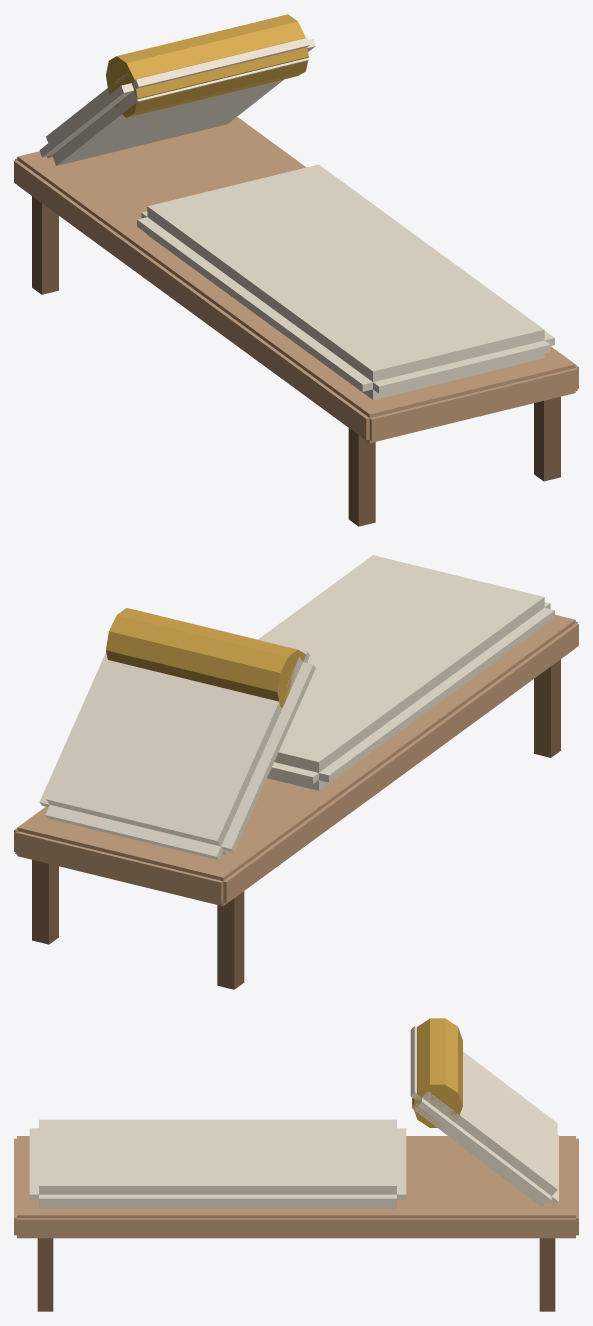
The model's file is lounger.glb.
3 renders of one model, top to bottom at view 1: azimuth 30°, elevation 25°; view 2: azimuth 150°, elevation 25°; view 3: azimuth 270°, elevation 25°, orthographic. The views are drawn at different scales.
Parts seen in each view (by area): view 1: Cushion, Frame, Backrest, Pillow, Leg.004, Leg.005, Leg.006; view 2: Cushion, Backrest, Frame, Pillow, Leg.005, Leg.004, Leg.007; view 3: Cushion, Frame, Backrest, Pillow, Leg.006, Leg.007.
Part boxes in pixels (bbox=[...]): Cushion: bbox=[137, 164, 554, 399]; Frame: bbox=[14, 117, 578, 442]; Backrest: bbox=[39, 37, 315, 165]; Pillow: bbox=[106, 14, 308, 117]; Leg.004: bbox=[348, 428, 375, 526]; Leg.005: bbox=[32, 196, 58, 294]; Leg.006: bbox=[534, 396, 560, 481]; Cushion: bbox=[258, 555, 554, 790]; Backrest: bbox=[39, 610, 315, 860]; Frame: bbox=[14, 614, 578, 906]; Pillow: bbox=[106, 608, 307, 707]; Leg.005: bbox=[217, 891, 244, 989]; Leg.004: bbox=[534, 659, 560, 757]; Leg.007: bbox=[32, 860, 58, 944]; Cushion: bbox=[29, 1119, 406, 1208]; Frame: bbox=[14, 1136, 578, 1238]; Backrest: bbox=[410, 1026, 558, 1206]; Pillow: bbox=[412, 1018, 462, 1127]; Leg.006: bbox=[37, 1238, 53, 1311]; Leg.007: bbox=[539, 1238, 555, 1311].
Size of the model in its own units: 0.62 by 0.7761 by 1.8.
